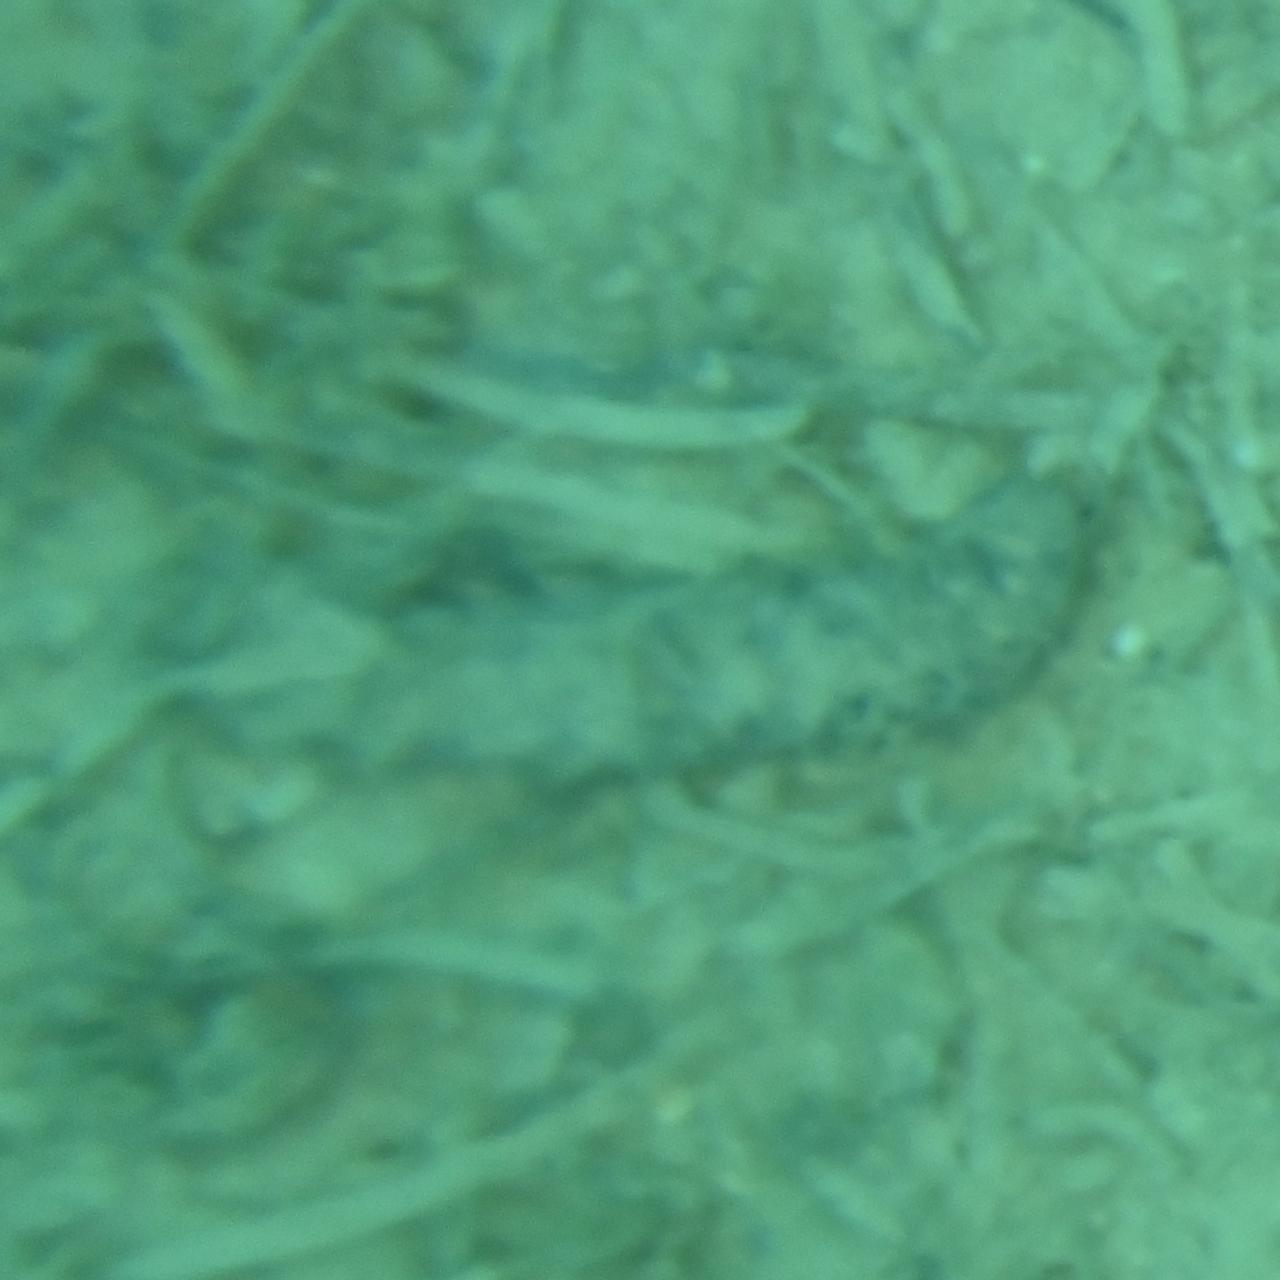Holothuria tubulosa: (163, 477, 1117, 803)
